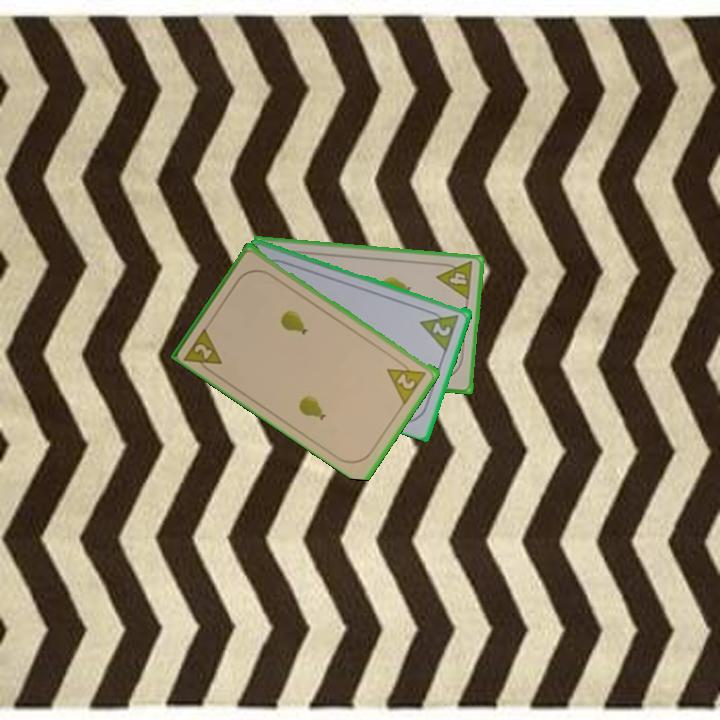2p: (181, 322, 226, 377), (383, 355, 430, 406), (417, 305, 462, 353)
4p: (433, 258, 476, 303)
